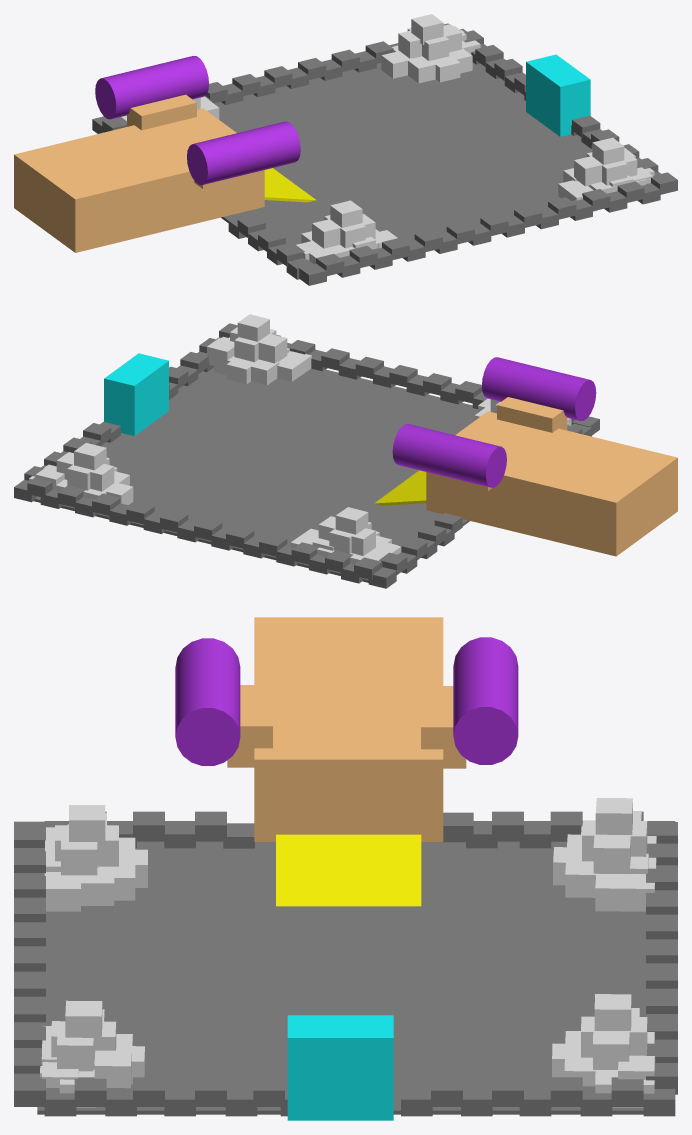
The model's file is Level1_bInit.fbx.
The picture shows the model from 3 angles, top to bottom: view 1: azimuth 30°, elevation 25°; view 2: azimuth 150°, elevation 25°; view 3: azimuth 270°, elevation 25°; orthographic projection. The views are drawn at different scales.
Parts seen in each view (by area): view 1: Box029, Box093, Box145, Cylinder002, Box097, Box096; view 2: Box029, Box093, Box145, Cylinder002, Box097, Box096; view 3: Box029, Box093, Box145, Cylinder002, Box097, Box096.
Part boxes in pixels (x1=…): Box029: x1=92, y1=23, x2=677, y2=285; Box093: x1=14, y1=94, x2=264, y2=252; Box145: x1=121, y1=14, x2=654, y2=263; Cylinder002: x1=95, y1=56, x2=300, y2=184; Box097: x1=526, y1=54, x2=590, y2=136; Box096: x1=264, y1=168, x2=316, y2=202; Box029: x1=14, y1=323, x2=599, y2=588; Box093: x1=426, y1=397, x2=677, y2=556; Box145: x1=29, y1=314, x2=571, y2=564; Cylinder002: x1=392, y1=357, x2=596, y2=487; Box097: x1=104, y1=353, x2=168, y2=435; Box096: x1=374, y1=470, x2=426, y2=505; Box029: x1=14, y1=811, x2=677, y2=1116; Box093: x1=227, y1=617, x2=466, y2=841; Box145: x1=40, y1=798, x2=656, y2=1107; Cylinder002: x1=175, y1=637, x2=518, y2=765; Box097: x1=287, y1=1015, x2=393, y2=1120; Box096: x1=276, y1=834, x2=421, y2=906.
Bounding box in the file's own units: 206 × 41.3 × 146.
